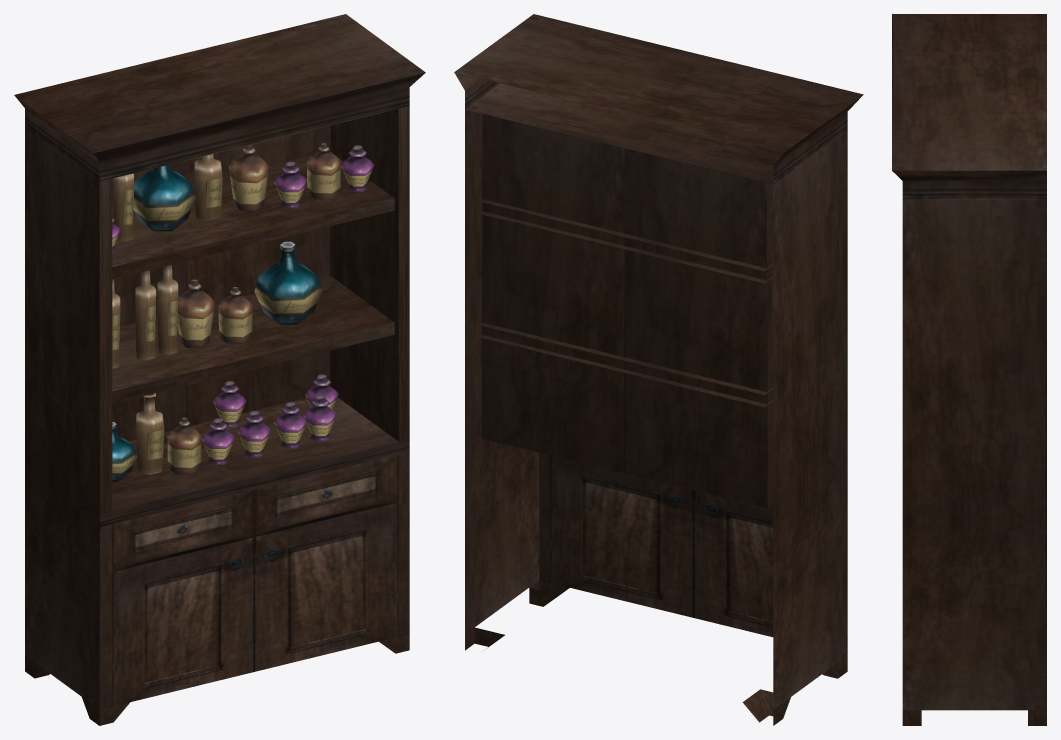
File: shop_doctor_cabinet_spanish.fbx
The picture shows the model from 3 angles, left to right: view 1: azimuth 30°, elevation 25°; view 2: azimuth 150°, elevation 25°; view 3: azimuth 270°, elevation 25°; orthographic projection. The views are drawn at different scales.
Visible parts, largest first — view 1: cabinet_spanish:cabinet_base, cabinet_spanish:cabinet_crown, cabinet_spanish:cabinet_shelf_1, cabinet_spanish:cabinet_shelf_2, pasted__bottle_green2, pasted__bottle_green8, pasted__bottle_red6, pasted__bottle_red, pasted__bottle_tan5, pasted__bottle_tan, pasted__bottle_tan4, pasted__bottle_tan2 (+13 smaller); view 2: cabinet_spanish:cabinet_base, cabinet_spanish:cabinet_crown, cabinet_spanish:cabinet_shelf_1, cabinet_spanish:cabinet_shelf_2, cabinet_spanish:cabinet_foot_4, cabinet_spanish:cabinet_foot_3; view 3: cabinet_spanish:cabinet_base, cabinet_spanish:cabinet_crown, cabinet_spanish:cabinet_foot_3, cabinet_spanish:cabinet_foot_2.
Boxes of the visible parts, left/top/right/bottom form: cabinet_spanish:cabinet_base: left=25, top=106, right=409, bottom=709; cabinet_spanish:cabinet_crown: left=14, top=14, right=425, bottom=181; cabinet_spanish:cabinet_shelf_1: left=112, top=275, right=394, bottom=403; cabinet_spanish:cabinet_shelf_2: left=112, top=151, right=394, bottom=279; pasted__bottle_green2: left=254, top=241, right=322, bottom=324; pasted__bottle_green8: left=133, top=165, right=196, bottom=231; pasted__bottle_red6: left=177, top=279, right=214, bottom=348; pasted__bottle_red: left=228, top=144, right=268, bottom=210; pasted__bottle_tan5: left=136, top=393, right=164, bottom=474; pasted__bottle_tan: left=194, top=154, right=222, bottom=220; pasted__bottle_tan4: left=157, top=265, right=178, bottom=354; pasted__bottle_tan2: left=135, top=270, right=156, bottom=360; cabinet_spanish:cabinet_base: left=465, top=109, right=847, bottom=709; cabinet_spanish:cabinet_crown: left=454, top=14, right=863, bottom=184; cabinet_spanish:cabinet_shelf_1: left=479, top=323, right=773, bottom=407; cabinet_spanish:cabinet_shelf_2: left=479, top=199, right=773, bottom=283; cabinet_spanish:cabinet_foot_4: left=742, top=689, right=790, bottom=725; cabinet_spanish:cabinet_foot_3: left=529, top=580, right=569, bottom=606; cabinet_spanish:cabinet_base: left=902, top=199, right=1046, bottom=710; cabinet_spanish:cabinet_crown: left=892, top=14, right=1046, bottom=199; cabinet_spanish:cabinet_foot_3: left=902, top=710, right=921, bottom=725; cabinet_spanish:cabinet_foot_2: left=1028, top=710, right=1046, bottom=725.
Size of the model in its own units: 535 by 892 by 223.
1 material, 1 textured.
